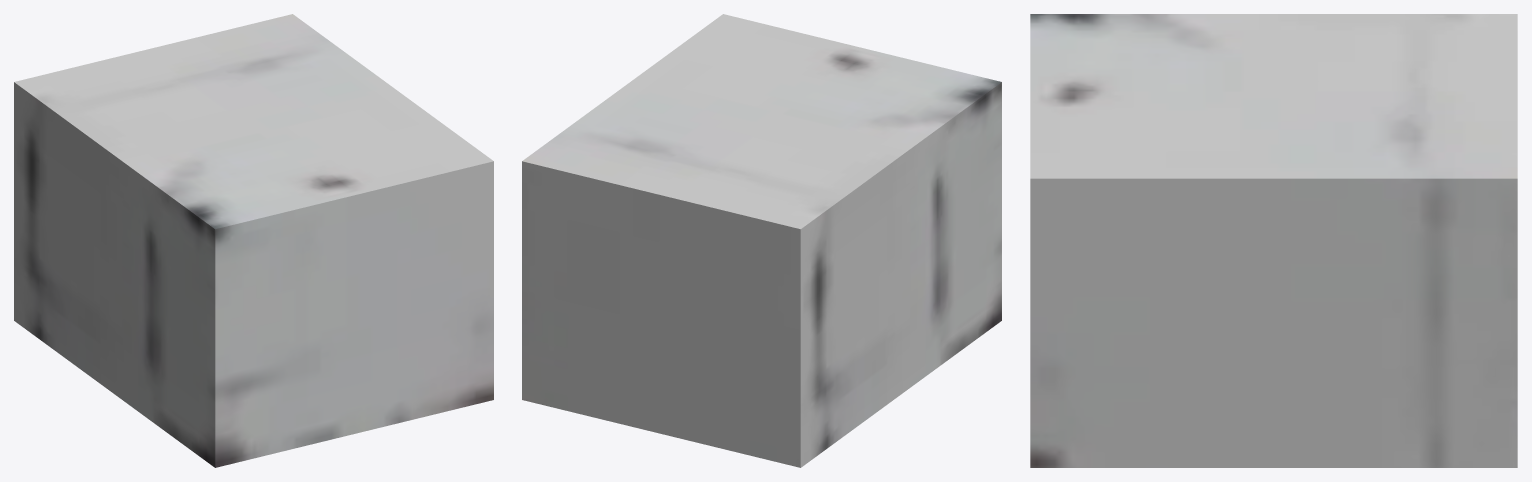
Rendered from frame__back_rail_gusset_0.glb.
The picture shows the model from 3 angles, left to right: view 1: azimuth 30°, elevation 25°; view 2: azimuth 150°, elevation 25°; view 3: azimuth 270°, elevation 25°; orthographic projection. The views are drawn at different scales.
Visible parts, largest first — view 1: world; view 2: world; view 3: world.
Boxes of the visible parts, box(x1,y1,x2,y2) form: world: box(14, 14, 493, 467); world: box(522, 14, 1001, 467); world: box(1030, 14, 1517, 467).
Bounding box in the file's own units: 0.044 × 0.036 × 0.055.
1 material, 1 textured.
